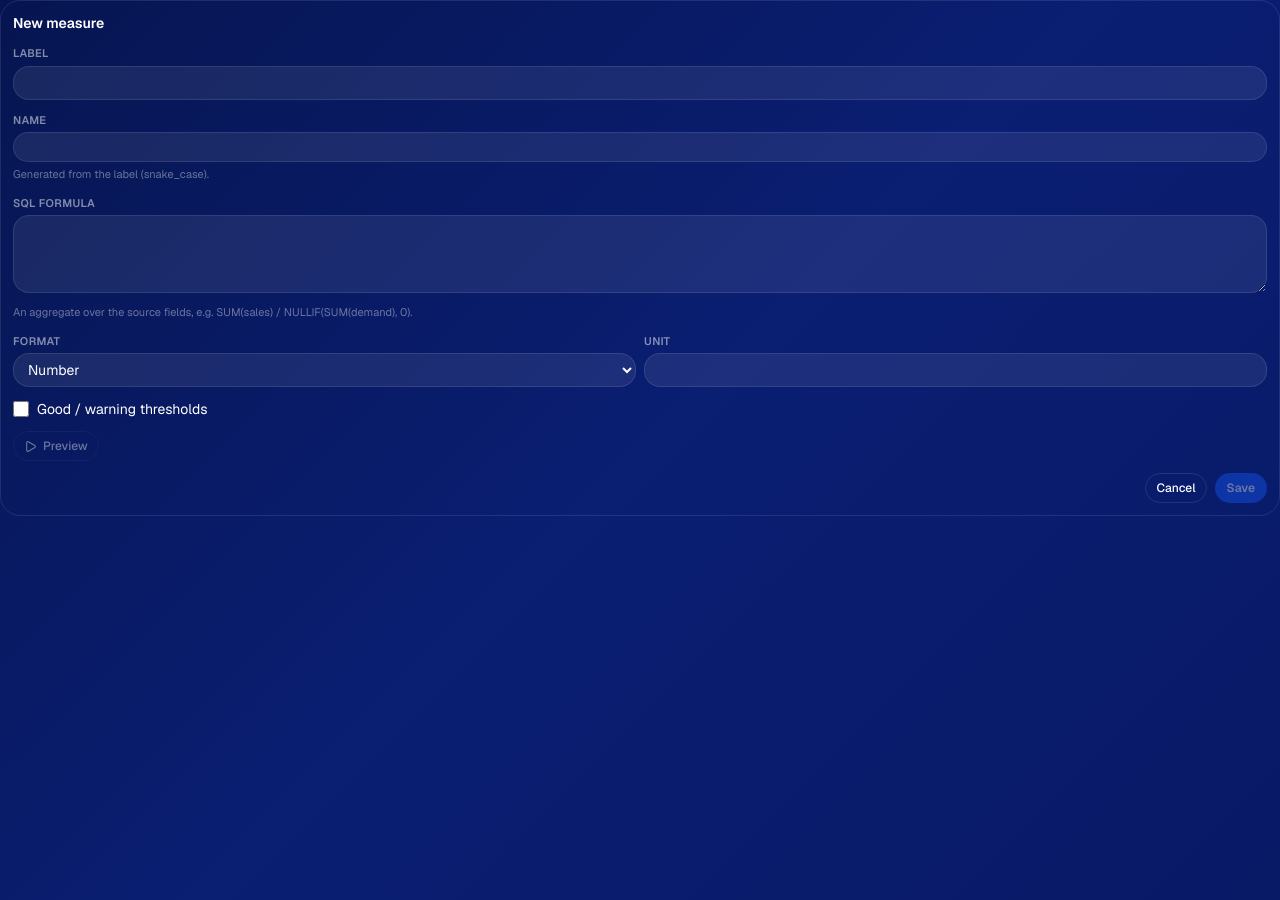
it: MeasureEditor › shows the computed value from the dry run
This screenshot has width=1280, height=900.
In the field labelled "Label": (640,82) x1=13 y1=66 x2=1267 y2=100, type "Taux"
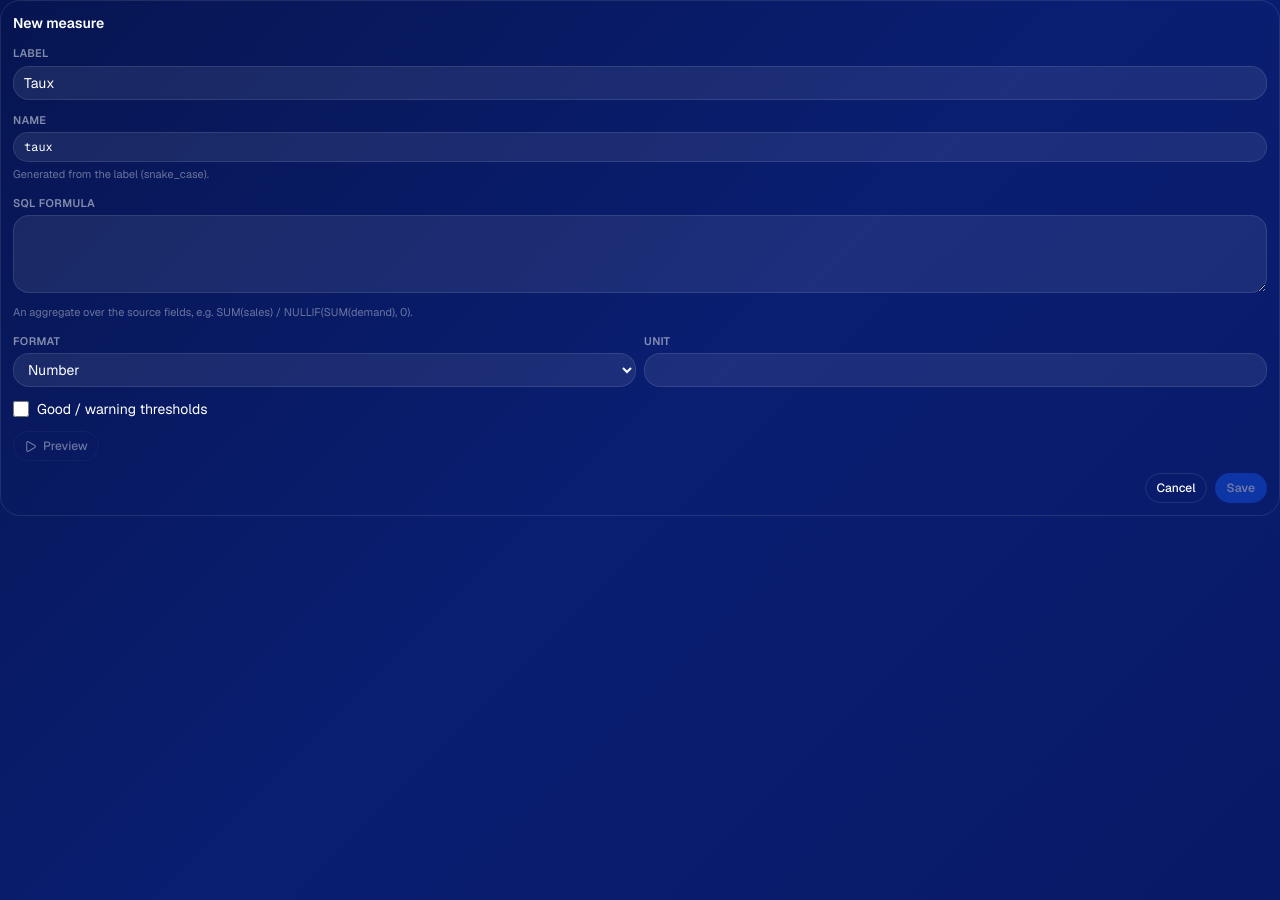
In the dropdown labelled "SQL formula": (640,254) x1=13 y1=215 x2=1267 y2=293, type "SUM(ventes)"
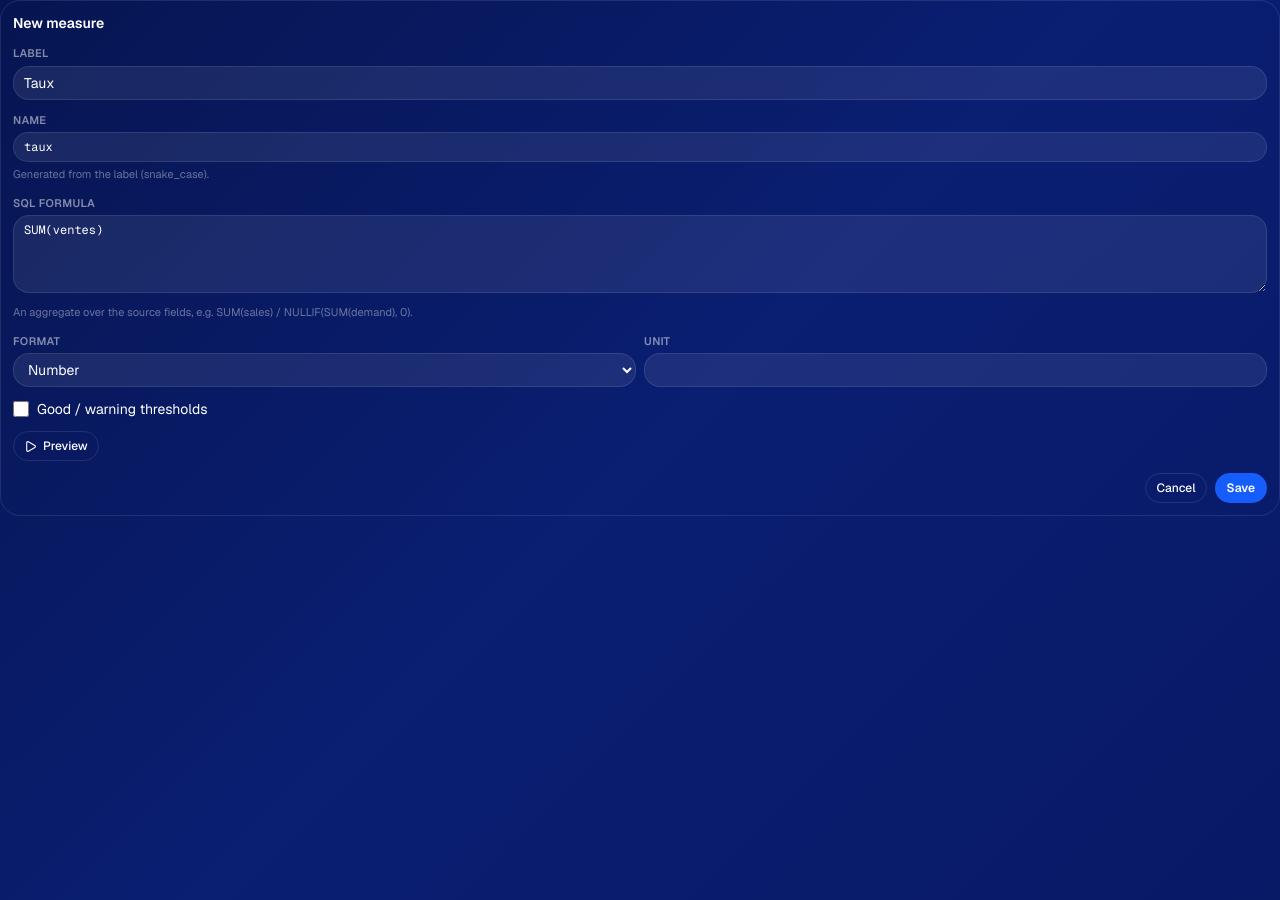
Click the button "Preview": (56,446) x1=13 y1=431 x2=99 y2=461
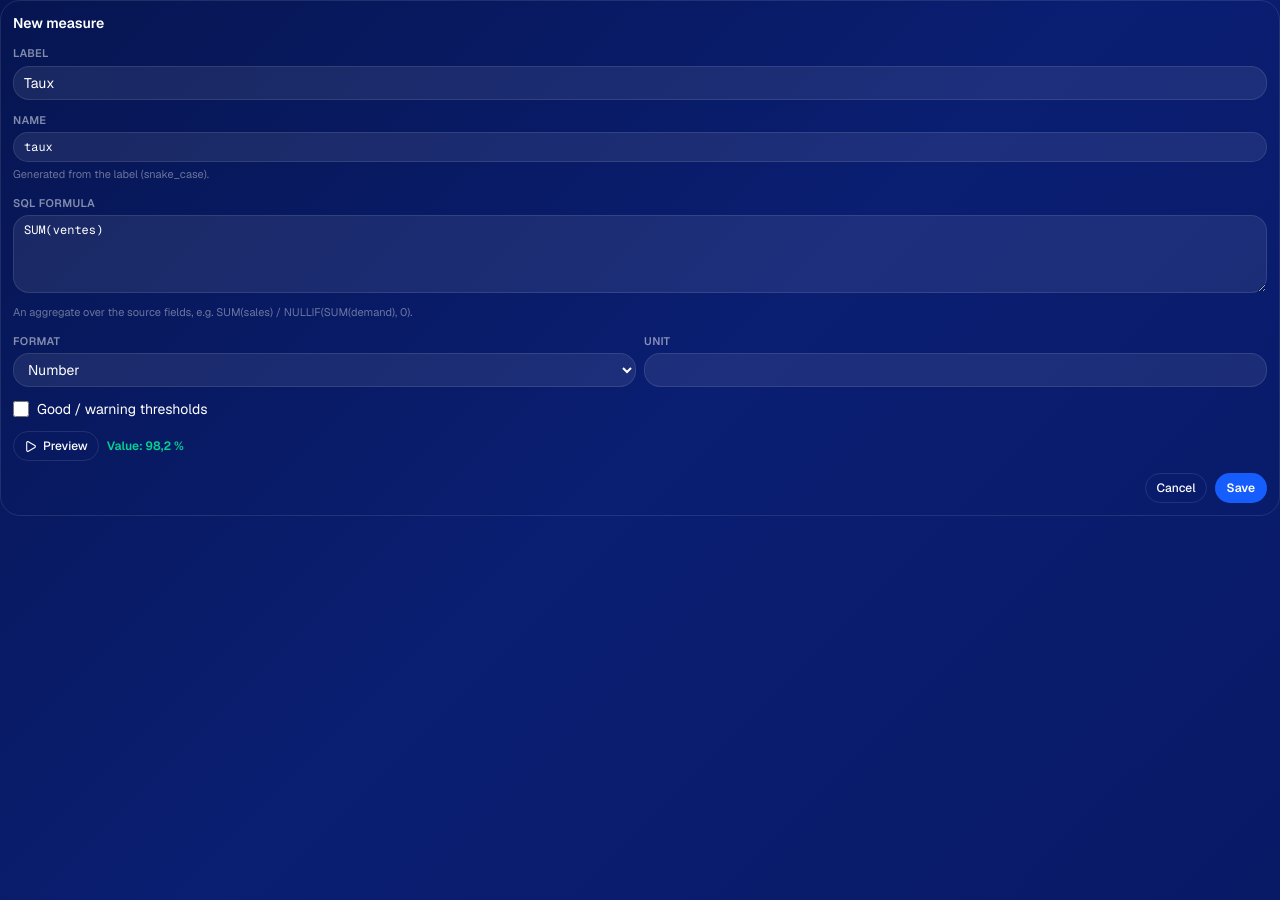
Now the text with test id "measure-preview" reads "98,2 %", box x1=146 y1=438 x2=184 y2=454
